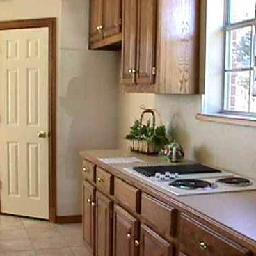Electrodomestico: (128, 156, 253, 204)
Puerta: (3, 25, 49, 221)
Ventana: (199, 3, 255, 122)
